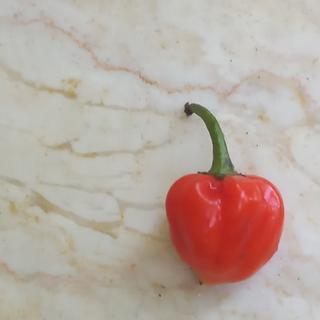Grade-B: (160, 166, 286, 289)
